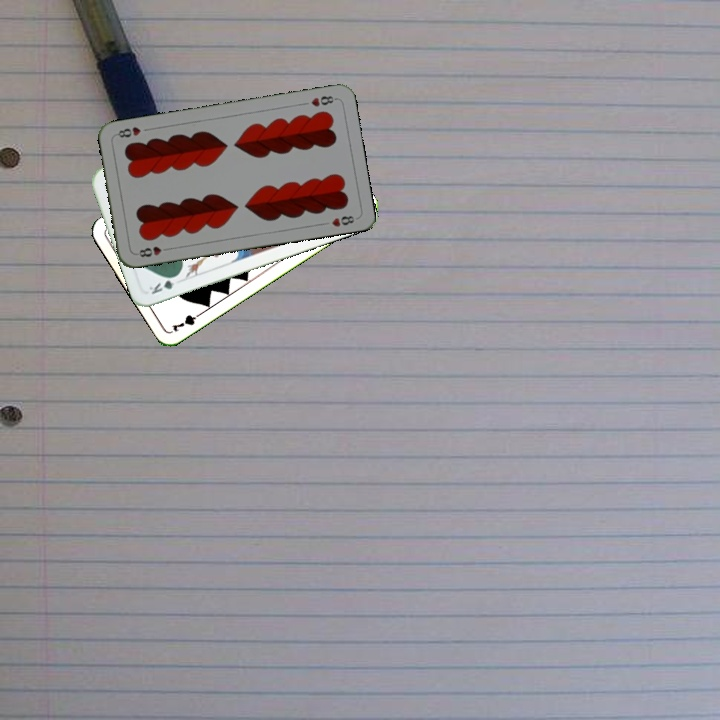G7: (168, 307, 206, 335)
GK: (145, 271, 182, 297)
H8: (132, 242, 173, 260), (307, 92, 339, 109)
